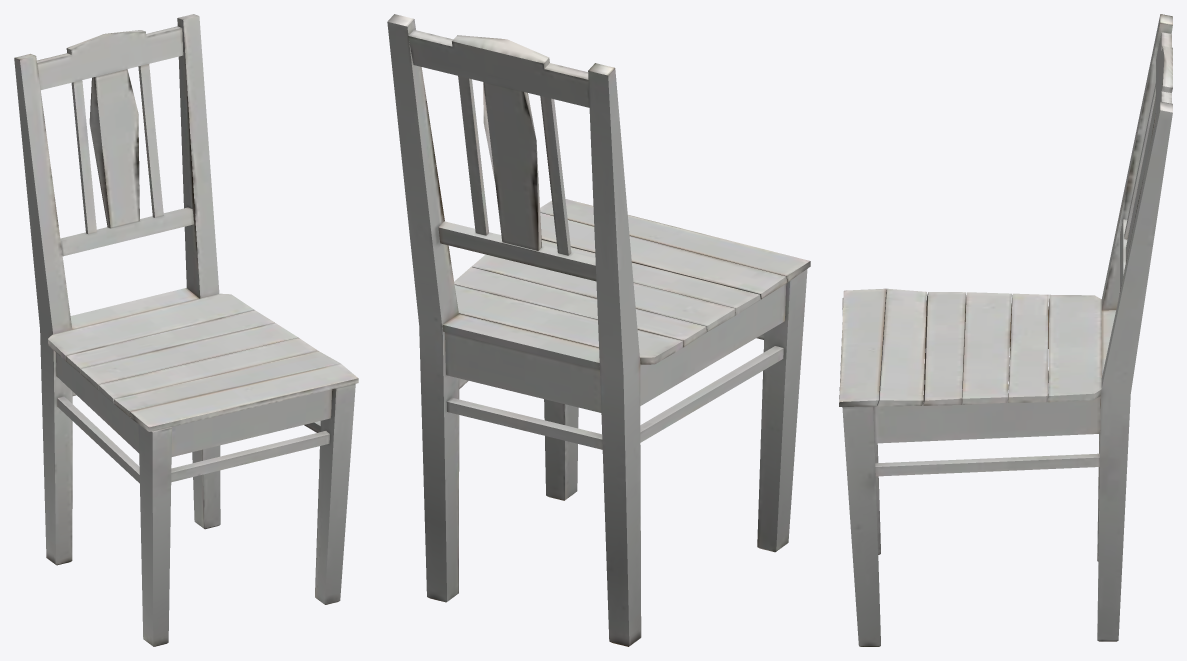
Rendered from chair-low.glb.
3 views of the same model, side by side, from view 1: azimuth 30°, elevation 25°; view 2: azimuth 150°, elevation 25°; view 3: azimuth 270°, elevation 25° (orthographic). The views are drawn at different scales.
Parts seen in each view (by area): view 1: painted_wooden_chair_01; view 2: painted_wooden_chair_01; view 3: painted_wooden_chair_01.
Boxes of the visible parts, x1,y1,x2,y2 form: painted_wooden_chair_01: (14, 14, 358, 646); painted_wooden_chair_01: (387, 14, 810, 646); painted_wooden_chair_01: (839, 14, 1172, 646).
Size of the model in its own units: 0.4238 by 0.9558 by 0.5358.
Materials: 1 (1 with a texture image).
